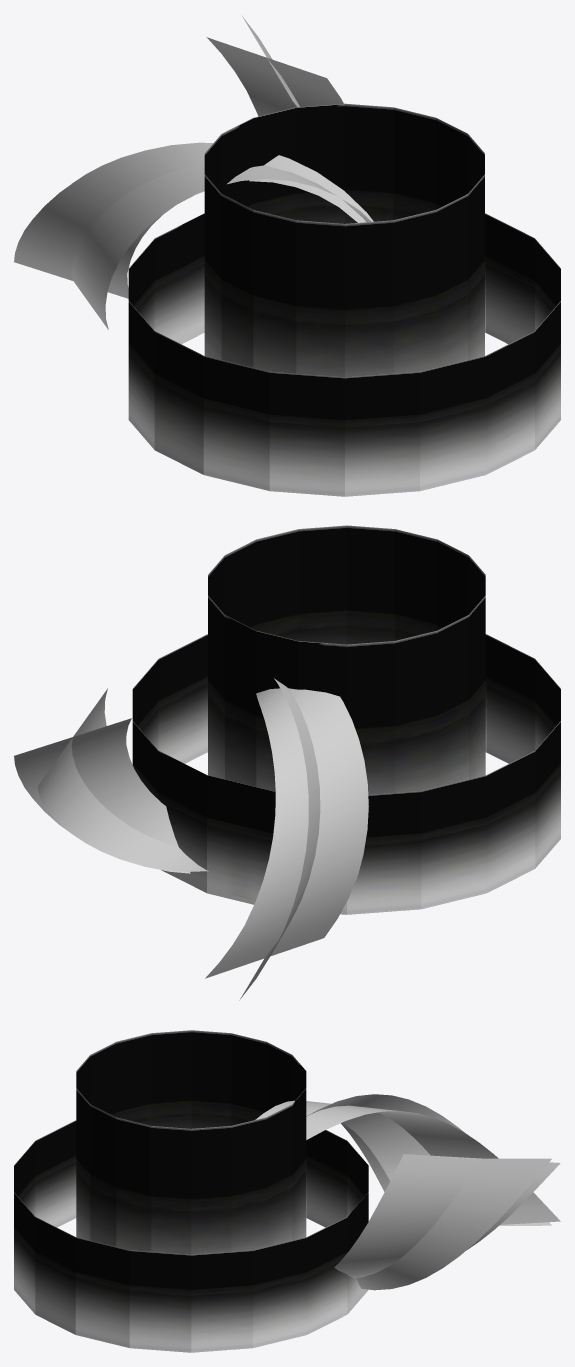
Rendered from effect_xinglingzhaohuan_dongzuo_1 #7377130.fbx.
3 renders of one model, top to bottom at view 1: azimuth 30°, elevation 25°; view 2: azimuth 150°, elevation 25°; view 3: azimuth 270°, elevation 25°, orthographic. The views are drawn at different scales.
Parts seen in each view (by area): view 1: effect_yuan_103_mo (1), effect_yuan_103_mo, effect_zhaohuanxingling_plane_01; view 2: effect_yuan_103_mo (1), effect_yuan_103_mo, effect_zhaohuanxingling_plane_01; view 3: effect_yuan_103_mo (1), effect_yuan_103_mo, effect_zhaohuanxingling_plane_01.
Boxes of the visible parts, x1,y1,x2,y2 form: effect_yuan_103_mo (1): [204, 103, 484, 377]; effect_yuan_103_mo: [128, 213, 560, 496]; effect_zhaohuanxingling_plane_01: [14, 16, 373, 329]; effect_yuan_103_mo (1): [208, 525, 485, 794]; effect_yuan_103_mo: [132, 634, 560, 914]; effect_zhaohuanxingling_plane_01: [14, 678, 368, 1000]; effect_yuan_103_mo (1): [76, 1030, 306, 1254]; effect_yuan_103_mo: [14, 1120, 368, 1352]; effect_zhaohuanxingling_plane_01: [255, 1094, 560, 1290].
Bounding box in the file's own units: 3.54 × 2.14 × 5.37.
